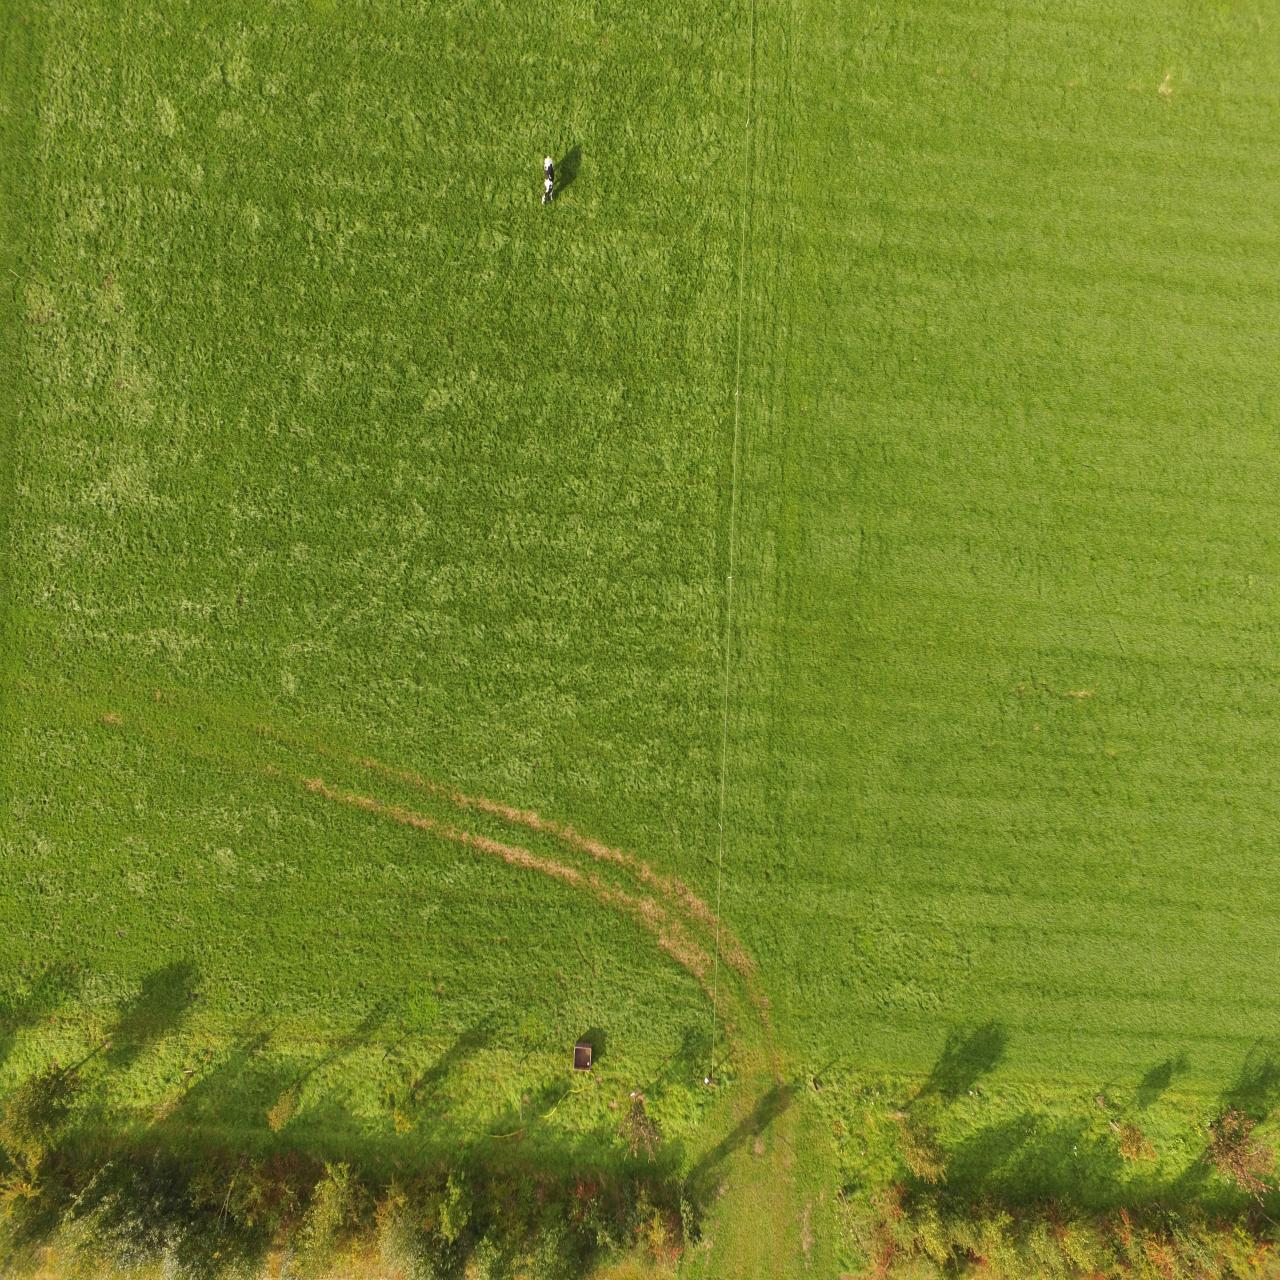cow: (539, 151, 557, 206)
